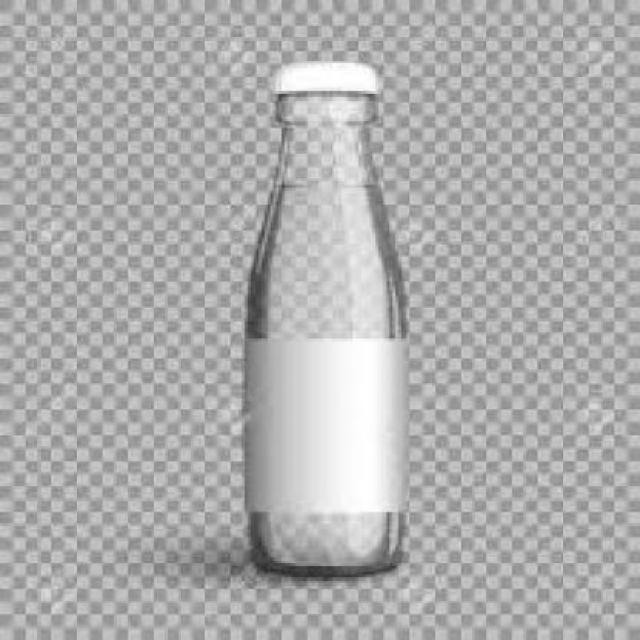kaca: (245, 88, 406, 572)
